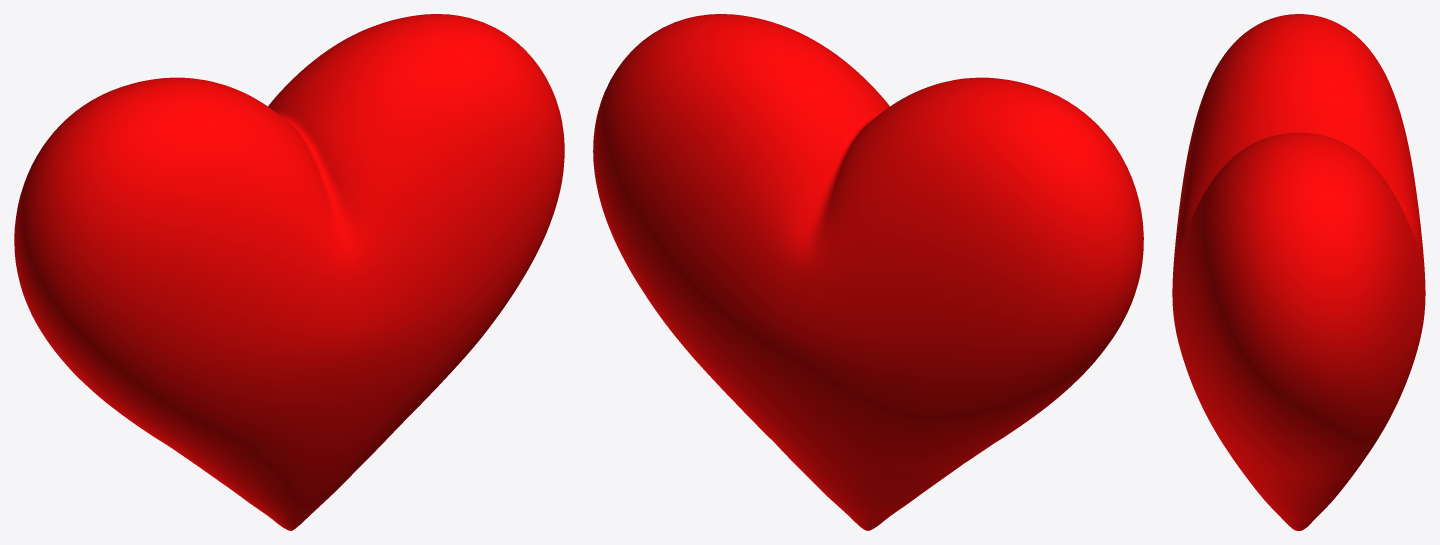
Rendered from Heart_HighPoly.obj.
The picture shows the model from 3 angles, left to right: view 1: azimuth 30°, elevation 25°; view 2: azimuth 150°, elevation 25°; view 3: azimuth 270°, elevation 25°; orthographic projection. The views are drawn at different scales.
Parts seen in each view (by area): view 1: Heart_02; view 2: Heart_02; view 3: Heart_02.
Boxes of the visible parts, bbox=[...] form: Heart_02: bbox=[14, 14, 564, 530]; Heart_02: bbox=[593, 14, 1143, 530]; Heart_02: bbox=[1172, 14, 1425, 530].
Size of the model in its own units: 18.99 by 16.3 by 8.46.
